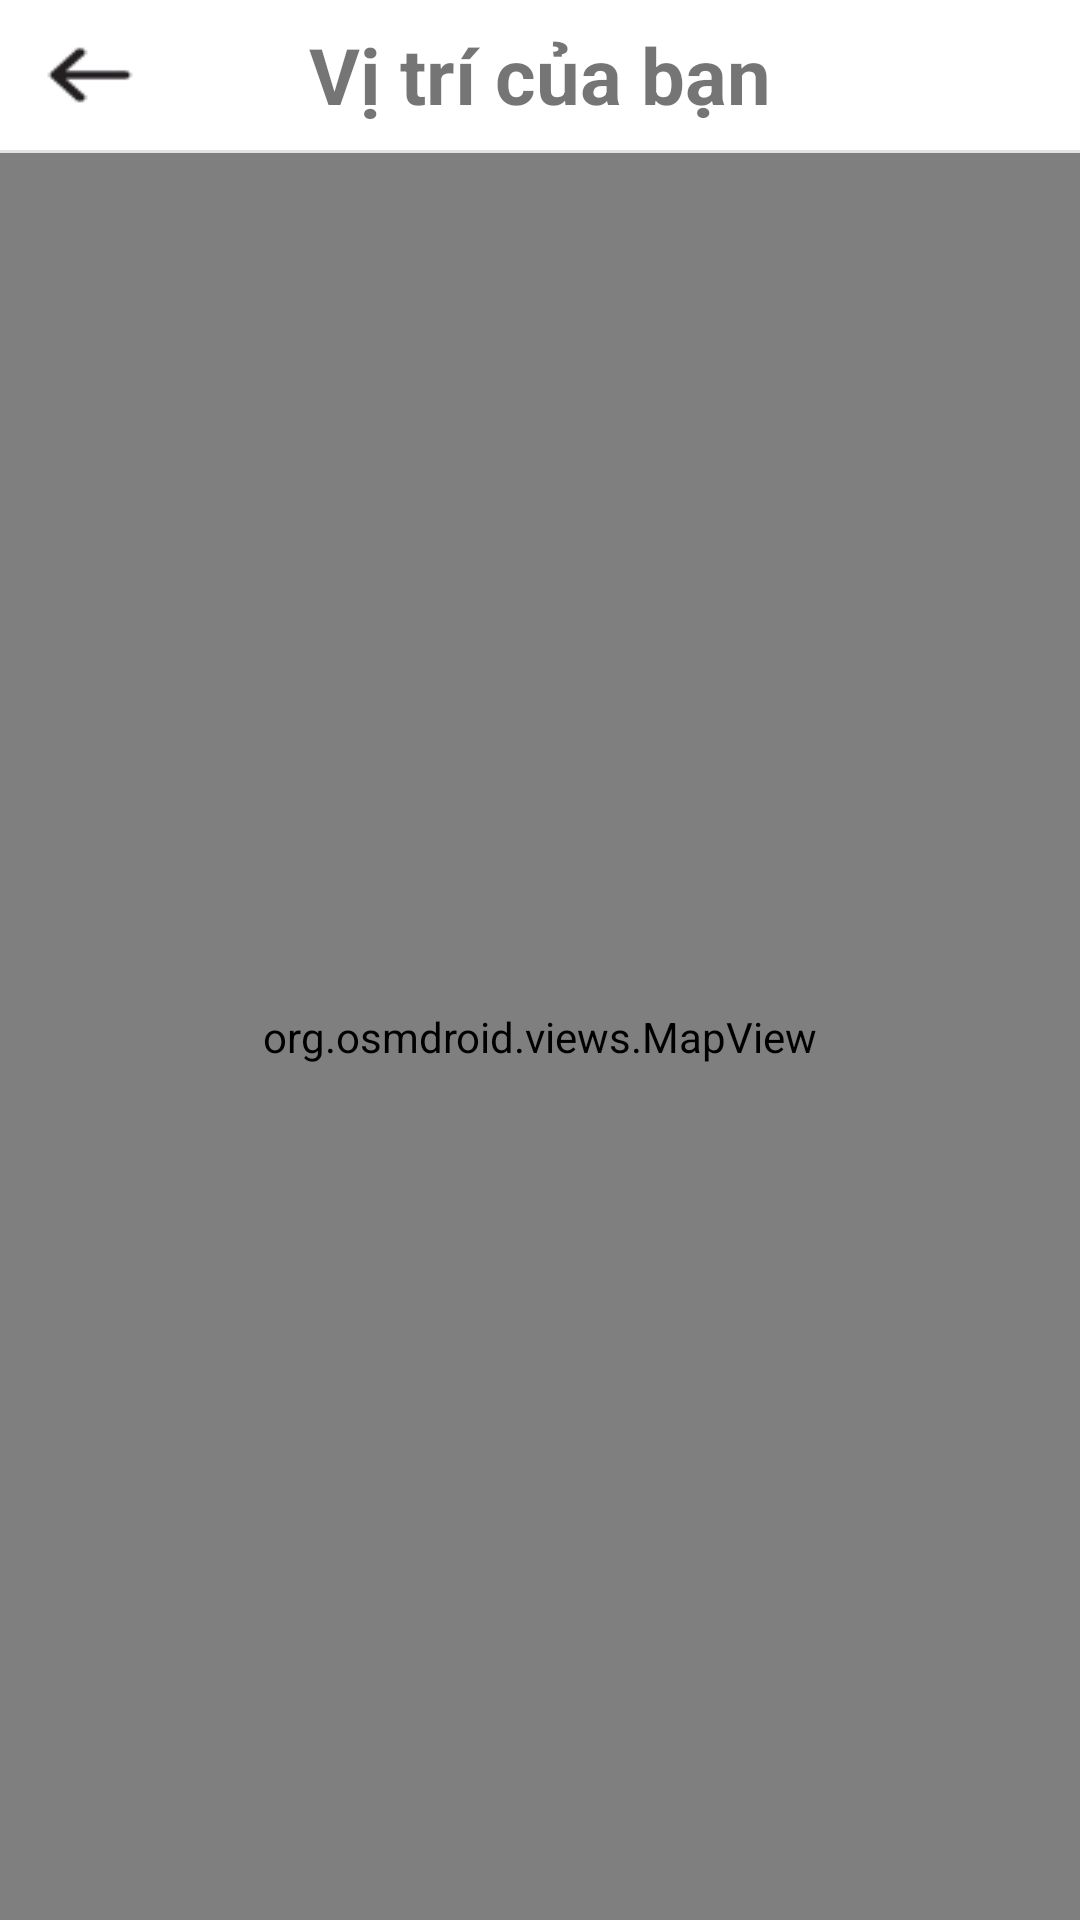

Icon bounding boxes for this 1080px x 1920px phone screenshot, format rect(x1, y1, x2, y2):
back: rect(48, 47, 132, 103)
